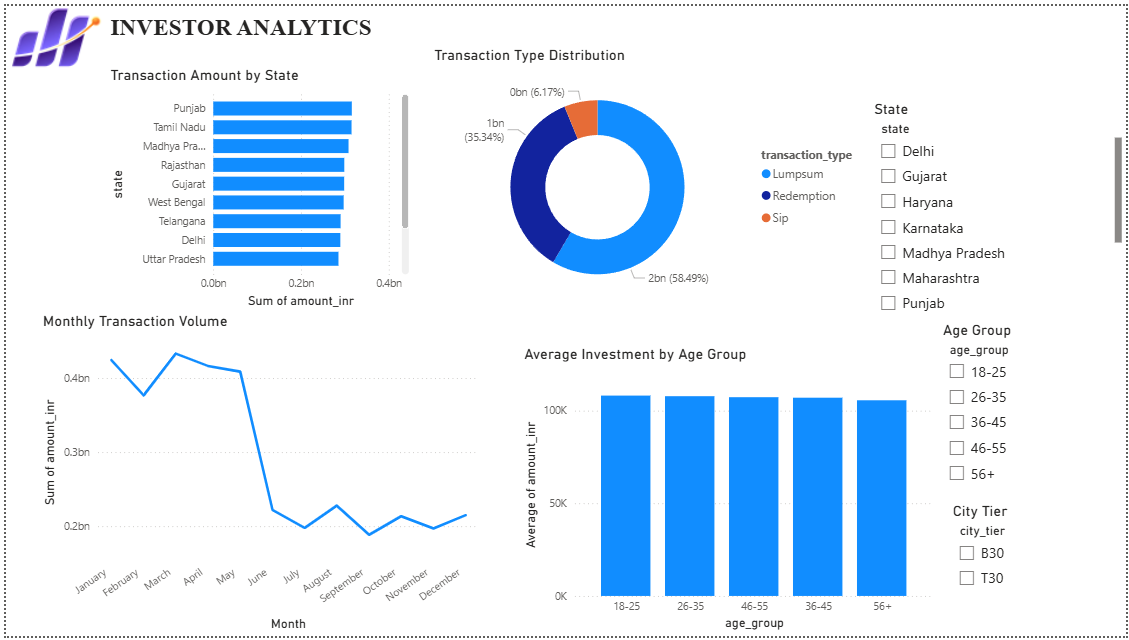

This screenshot's page, from the dashboard's own definition file:
{"tool":"powerbi","page":{"name":"Investor Analytics","canvas":[1280,720],"ordinal":2},"visuals":[{"type":"clusteredBarChart","title":"Transaction Amount by State","fields":{"Category":["investor_transactions_clean.state"],"Y":["Sum(investor_transactions_clean.amount_inr)"]},"box":[114.9,68.9,351.4,281.1],"z":0},{"type":"donutChart","title":"Transaction Type Distribution","fields":{"Category":["investor_transactions_clean.transaction_type"],"Y":["Sum(investor_transactions_clean.amount_inr)"]},"box":[483.8,45.9,502.7,304.1],"z":1000},{"type":"clusteredColumnChart","title":"Average Investment by Age Group","fields":{"Category":["investor_transactions_clean.age_group"],"Y":["Avg(investor_transactions_clean.amount_inr)"]},"box":[587.8,387.8,478.4,331.1],"z":2000},{"type":"lineChart","title":"Monthly Transaction Volume","fields":{"Y":["Sum(investor_transactions_clean.amount_inr)"],"Category":["investor_transactions_clean.transaction_date.Variation.Date Hierarchy.Month"]},"box":[36.5,350,508.1,368.9],"z":3000},{"type":"slicer","title":"State","fields":{"Values":["investor_transactions_clean.state"]},"box":[986.5,106.8,293.2,252.7],"z":4000},{"type":"slicer","title":"Age Group","fields":{"Values":["investor_transactions_clean.age_group"]},"box":[1066.2,359.5,195.9,194.6],"z":5000},{"type":"slicer","title":"City Tier","fields":{"Values":["investor_transactions_clean.city_tier"]},"box":[1077,567.6,185.1,152.7],"z":6000},{"type":"image","box":[0,0,110.4,75.3],"z":6001},{"type":"textbox","box":[114.9,4.1,325.7,41.9],"z":6002}]}

Visuals, with their boxes in screenshot pixels (x1, y1, x2, y2), scaled from the page's 1280x720 canvas onto the 1129x640 screenshot:
"Transaction Amount by State" clusteredBarChart: 101,61,411,311
"Transaction Type Distribution" donutChart: 427,41,870,311
"Average Investment by Age Group" clusteredColumnChart: 518,345,940,639
"Monthly Transaction Volume" lineChart: 32,311,480,639
"State" slicer: 870,95,1128,320
"Age Group" slicer: 940,320,1113,493
"City Tier" slicer: 950,505,1113,639
image: 0,0,97,67
textbox: 101,4,389,41
